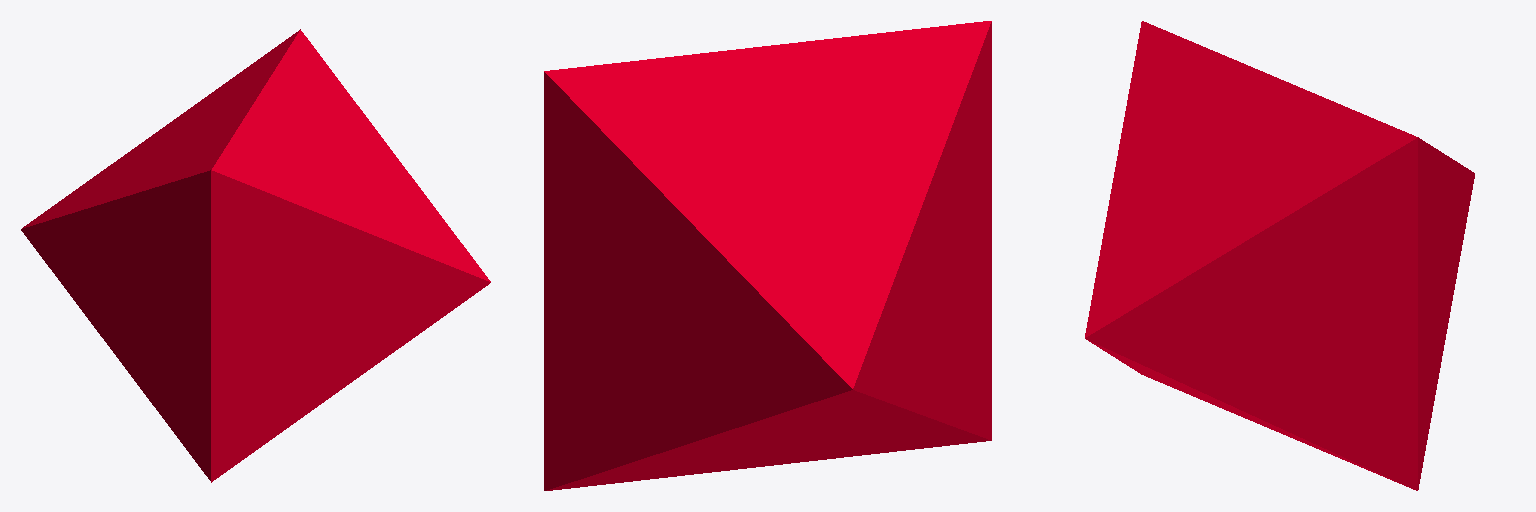
robot.urdf — octahedron.urdf:
<?xml version="1.0" ?>
<robot name="octahedron.urdf">

  <link name="octahedron">
    <contact>
    	<friction_anchor/>
    	   <lateral_friction value="1.0"/>
    </contact>
    <inertial>
      <origin rpy="0 0 0" xyz="0 0 0"/>
       <mass value=".1"/>
       <inertia ixx="1" ixy="0" ixz="0" iyy="1" iyz="0" izz="1"/>
    </inertial>
    <visual>
      <origin rpy="0 0 0" xyz="0 0 0"/>
      <geometry>
				<mesh filename="octahedron.obj" scale="1.0 1.0 1.0"/>
      </geometry>
       <material name="red">
        <color rgba="0.9 0 0.2 1.0"/>
      </material>
    </visual>
    <collision>
      <origin rpy="0 0 0" xyz="0 0 0"/>
      <geometry>
				<mesh filename="octahedron.obj" scale="1.0 1.0 1.0"/>
      </geometry>
    </collision>
  </link>


</robot>

--- Render facts (derived) ---
The picture shows the robot from 3 angles, left to right: view 1: azimuth 30°, elevation 25°; view 2: azimuth 150°, elevation 25°; view 3: azimuth 270°, elevation 25°; orthographic projection.
Robot: octahedron.urdf — 1 links, 0 joints (none); root link octahedron; default pose: all joints at 0.
Visible links, largest first — view 1: octahedron; view 2: octahedron; view 3: octahedron.
Link boxes in pixels (box(x1,y1,x2,y2)): octahedron: box(21, 29, 490, 482); octahedron: box(544, 21, 991, 490); octahedron: box(1085, 21, 1474, 490).
Size in the robot's own frame: 0.0884 by 0.0884 by 0.0884 metres.
1 mesh visuals loaded from 1 distinct referenced files (1 OBJ).